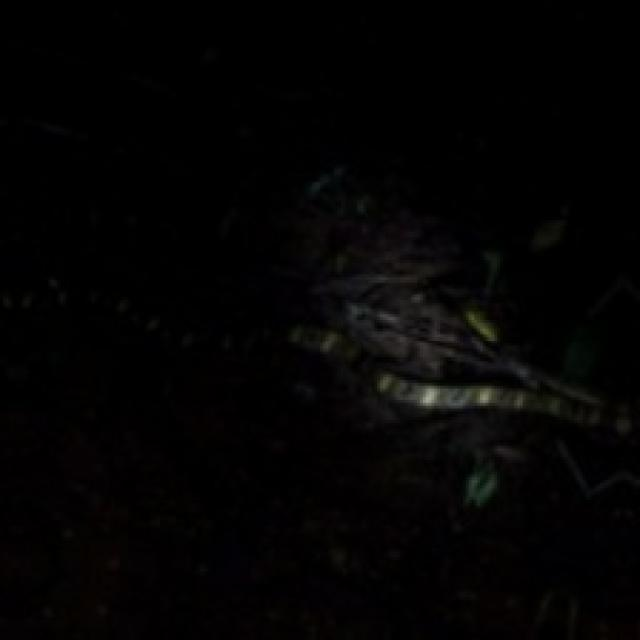dog-toothed cat snake: (289, 294, 637, 431)
